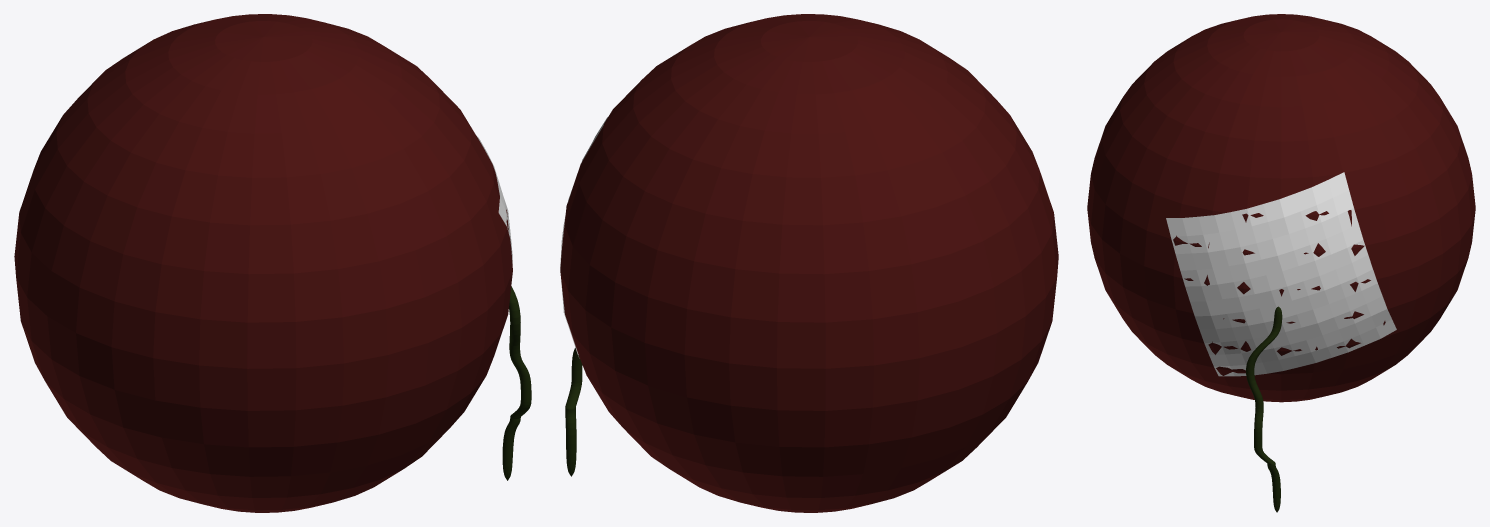
The picture shows the model from 3 angles, left to right: view 1: azimuth 30°, elevation 25°; view 2: azimuth 150°, elevation 25°; view 3: azimuth 270°, elevation 25°; orthographic projection. The views are drawn at different scales.
Parts seen in each view (by area): view 1: Sphere, Cylinder; view 2: Sphere, Cylinder; view 3: Sphere, Plane, Cylinder.
Boxes of the visible parts, <box> form: Sphere: <box>14,14,512,512</box>; Cylinder: <box>502,286,531,480</box>; Sphere: <box>560,14,1058,512</box>; Cylinder: <box>565,348,582,476</box>; Sphere: <box>1087,14,1475,402</box>; Plane: <box>1166,172,1396,376</box>; Cylinder: <box>1246,306,1282,512</box>.
Size of the model in its own units: 472 by 483 by 436.
